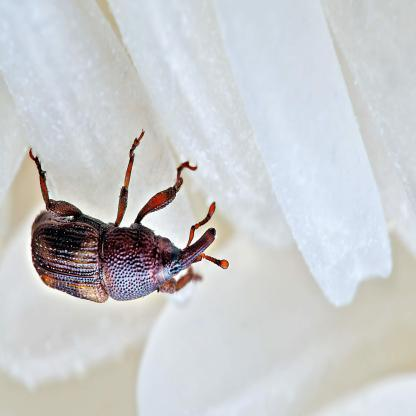rice-bug: (30, 162, 218, 308)
